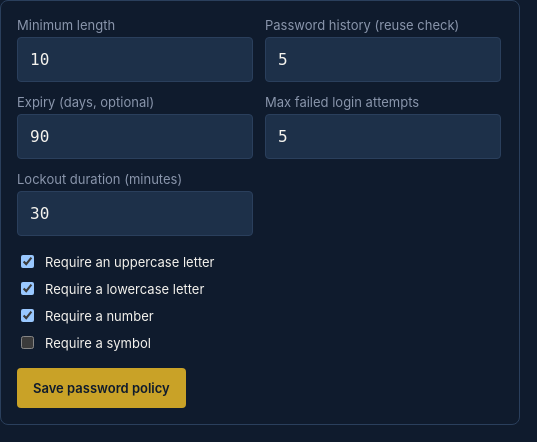
Test: PasswordPolicyForm › shows a "Saved." confirmation after a successful save
The image size is (537, 442).
What coordinates should you click on to do the following:
click the button "Save password policy"
I would click on:
 (101, 388)
Its box is [17, 368, 186, 408].
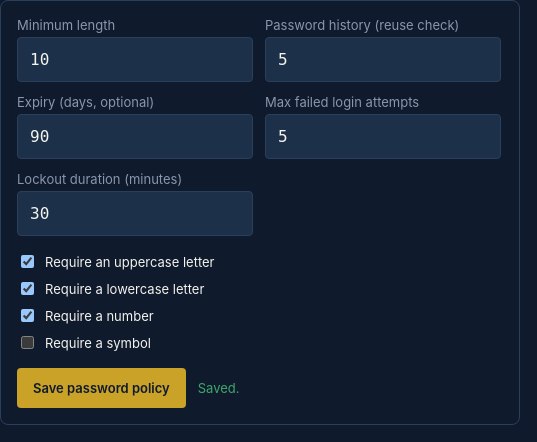
Now the text "Saved." is shown, box [198, 380, 240, 396]
